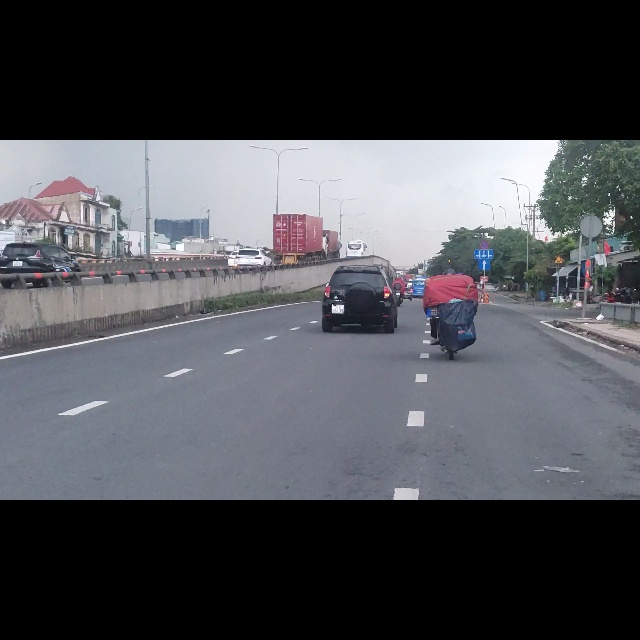bien_cam: (478, 211, 491, 232), (481, 179, 489, 194)
